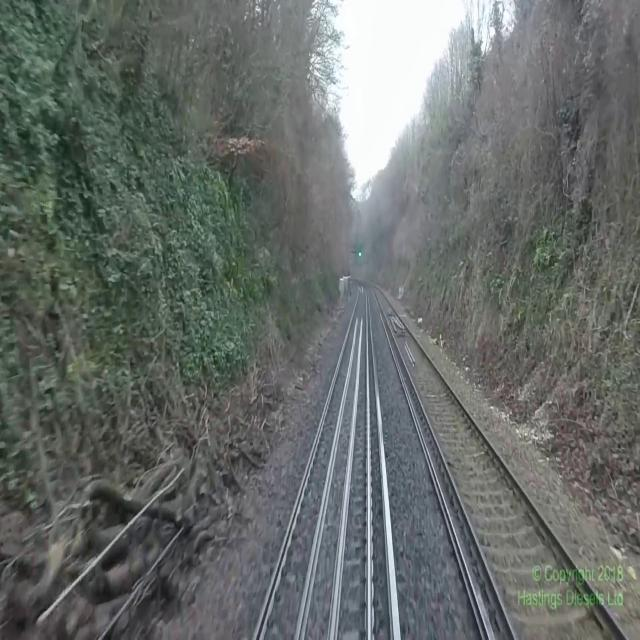rail-track: (374, 287, 622, 639), (257, 284, 366, 639)
